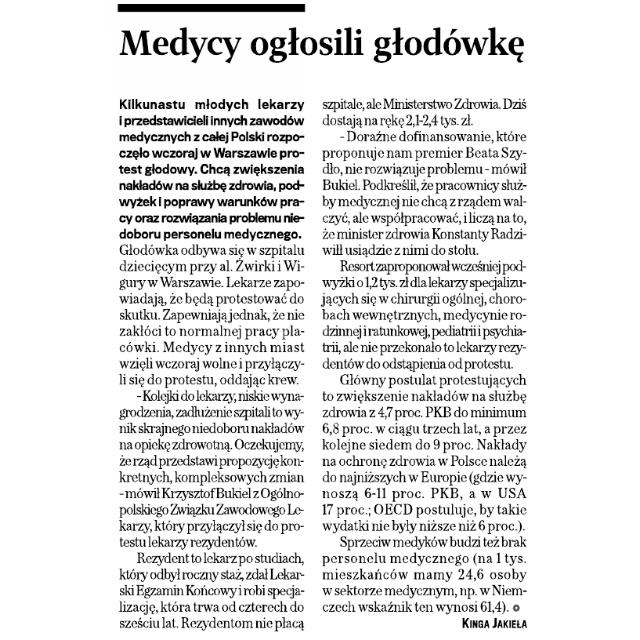author: (456, 614, 532, 630)
body: (320, 93, 532, 617), (116, 241, 310, 635)
lead: (113, 94, 309, 242)
title: (114, 18, 530, 70)
